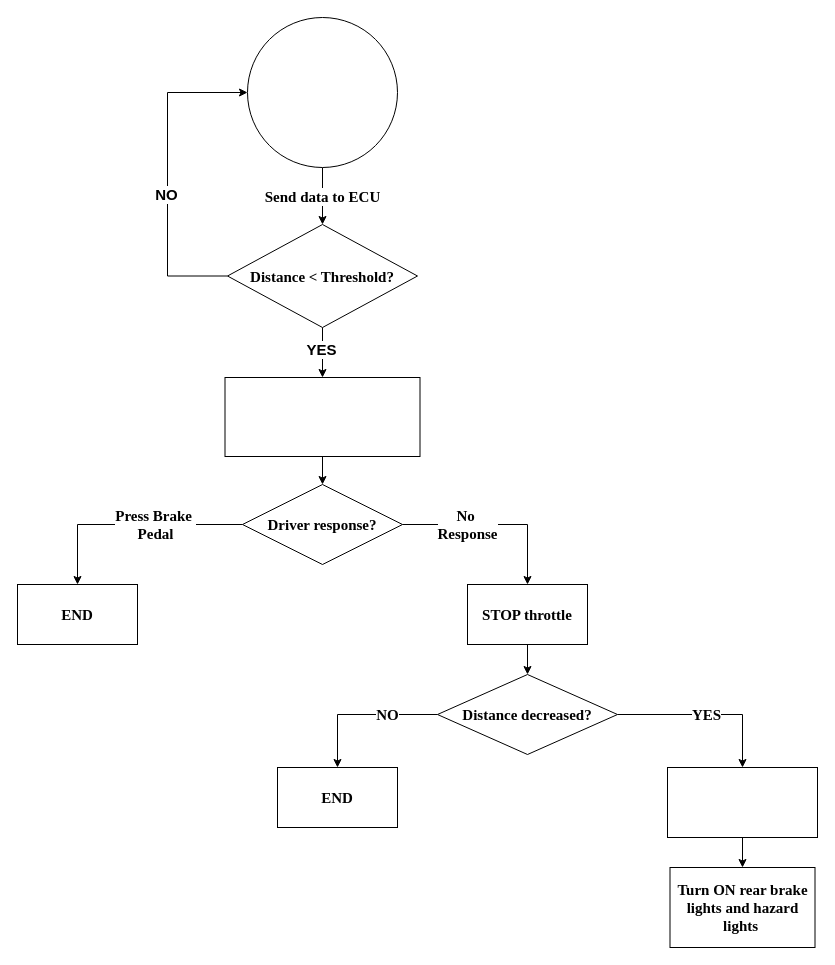
This 835x965 diagram has some shape labels left out. The centre of each missing label's shape, as x and y in pixels:
"Activate brake actuators to stop the vehicle" goes at point (742, 802).
"Issue visual and auditory alerts" goes at point (322, 416).
"START Sensor measure distance" goes at point (322, 92).
